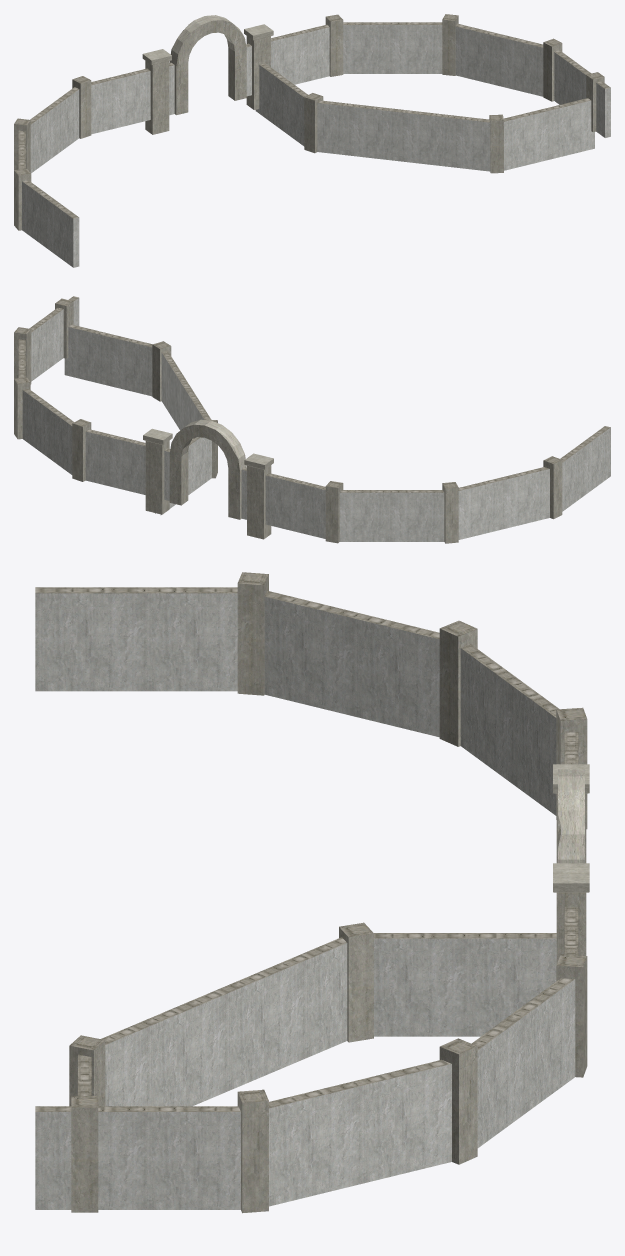
Rendered from poi_corl_corral_half_64x64_s02_l0.fbx.
3 views of the same model, one above another, from view 1: azimuth 30°, elevation 25°; view 2: azimuth 150°, elevation 25°; view 3: azimuth 270°, elevation 25° (orthographic). The views are drawn at different scales.
Parts seen in each view (by area): view 1: mesh_node; view 2: mesh_node; view 3: mesh_node.
Part boxes in pixels (box(x1,y1,x2,y2)): mesh_node: box(14, 14, 610, 267); mesh_node: box(14, 296, 610, 543); mesh_node: box(35, 572, 589, 1213).
Size of the model in its own units: 46.43 by 8.5 by 20.48.
